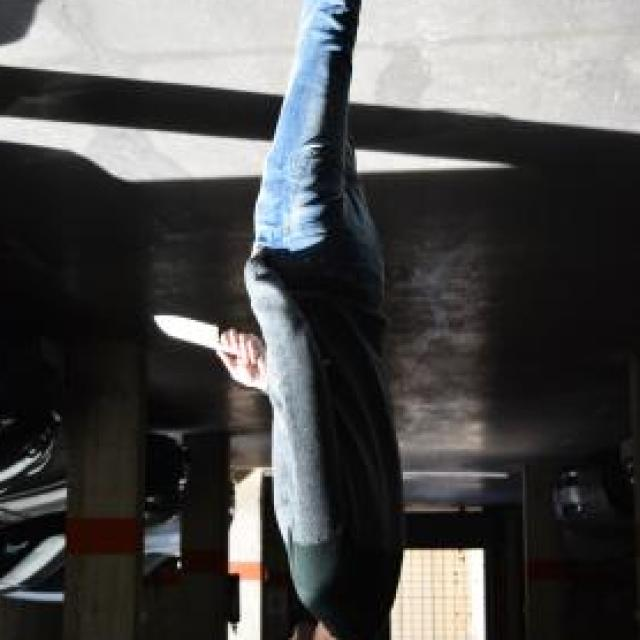knife: (147, 311, 260, 366)
